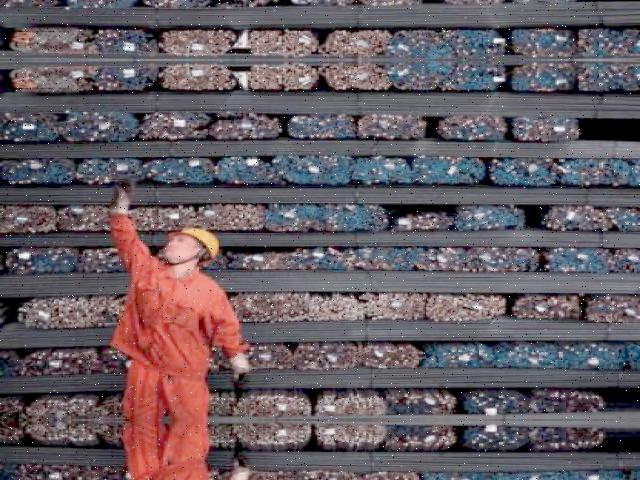Helmet: (169, 225, 228, 263)
